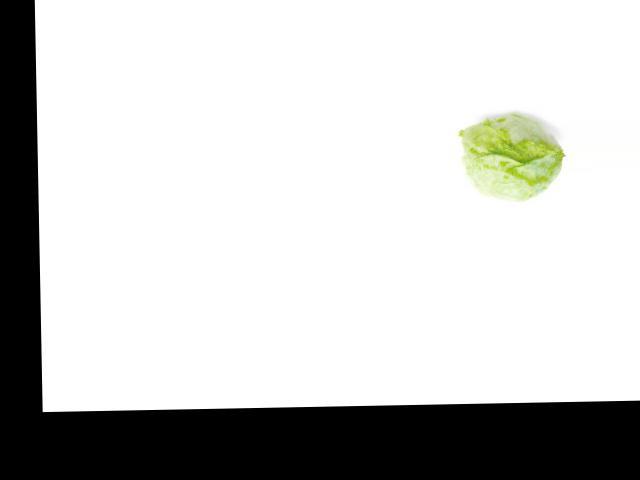lettuce: (459, 107, 564, 209)
